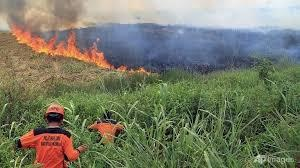fire: (9, 26, 141, 73)
